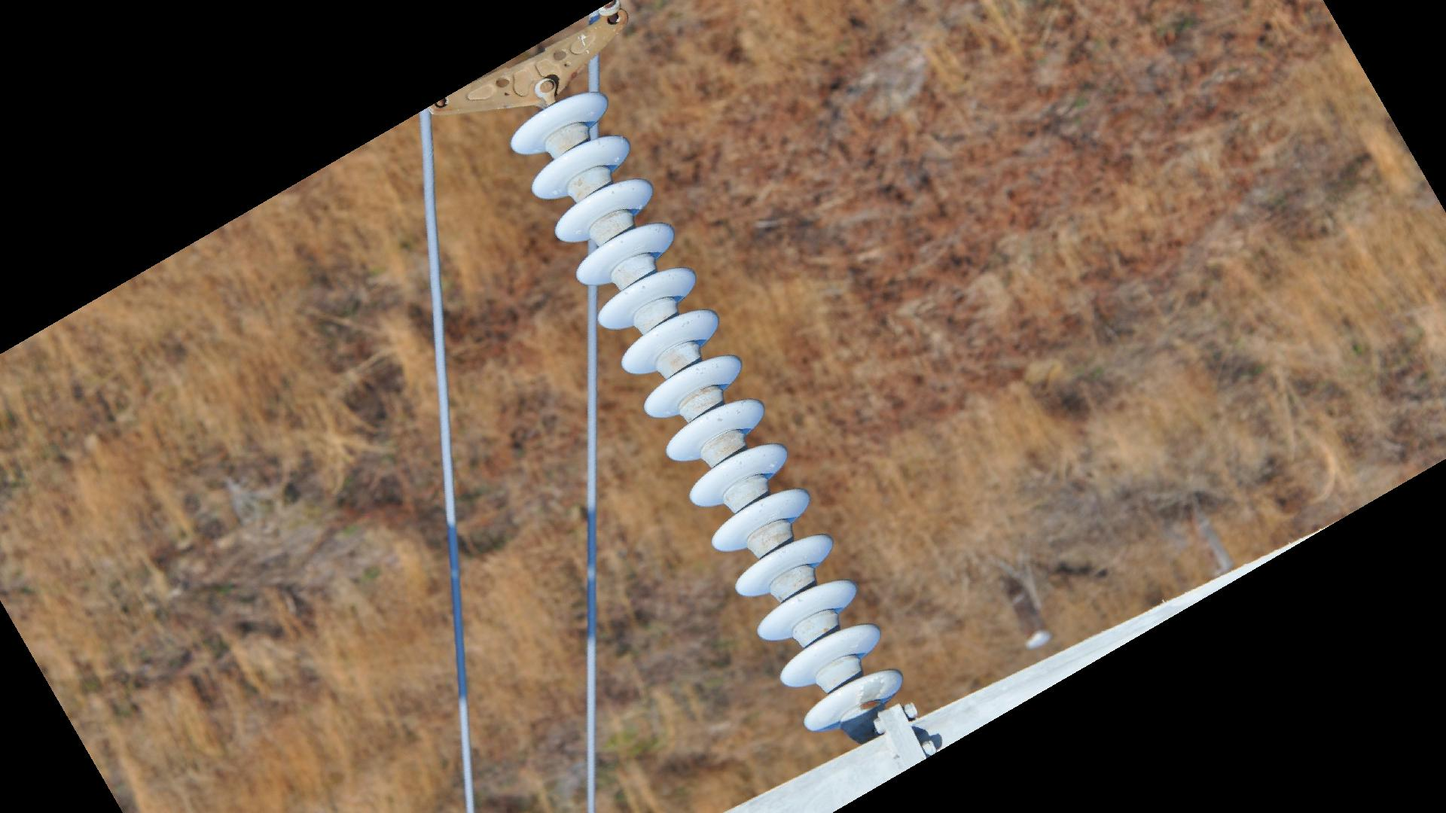insulator: (505, 88, 909, 738)
insulator_flashover: (856, 673, 888, 708)
